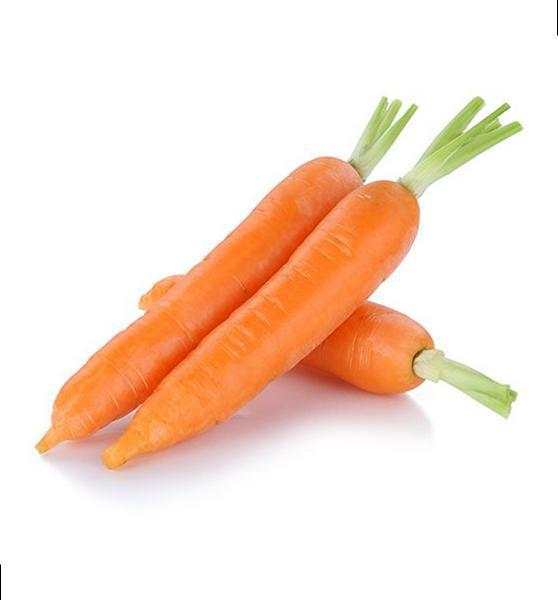carrot: (43, 149, 447, 448)
